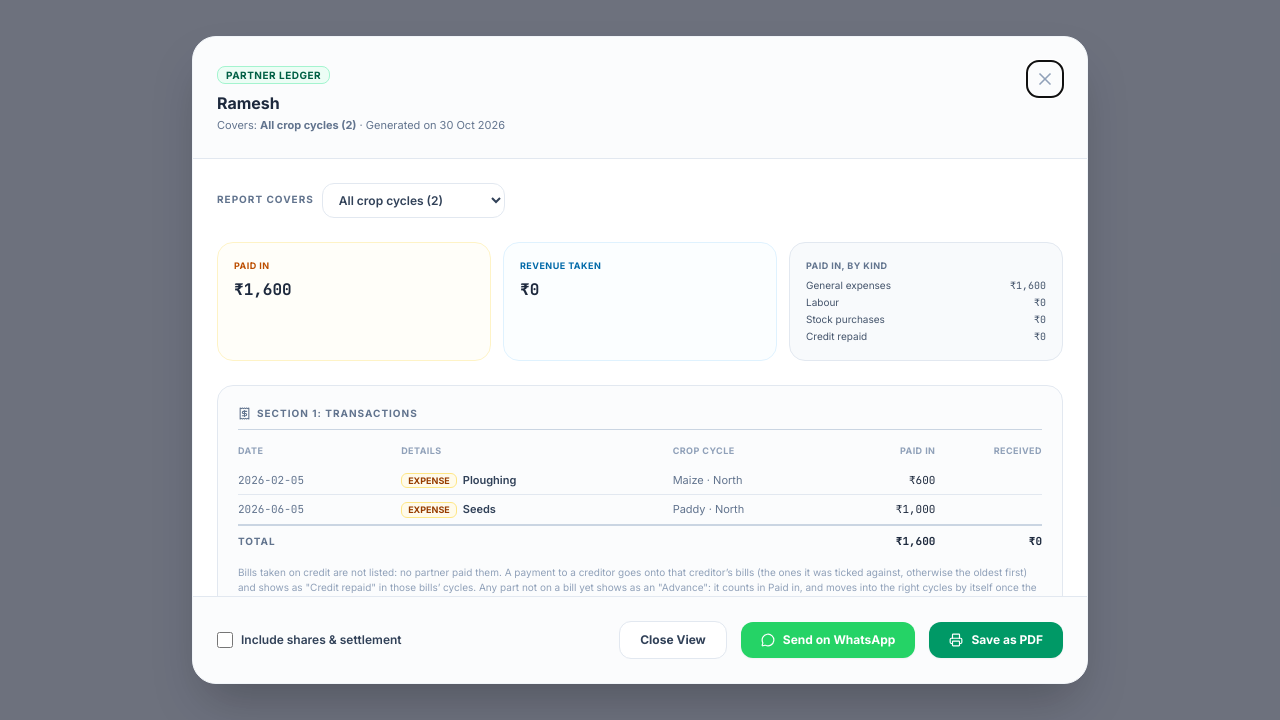
Scenario: PartnerReportModal › adds shares, the per-cycle table and settlement back when ticked
Click the checkbox labelled "Include shares & settlement" at (225, 640), box 217,632 -> 233,648
(page scrolled)
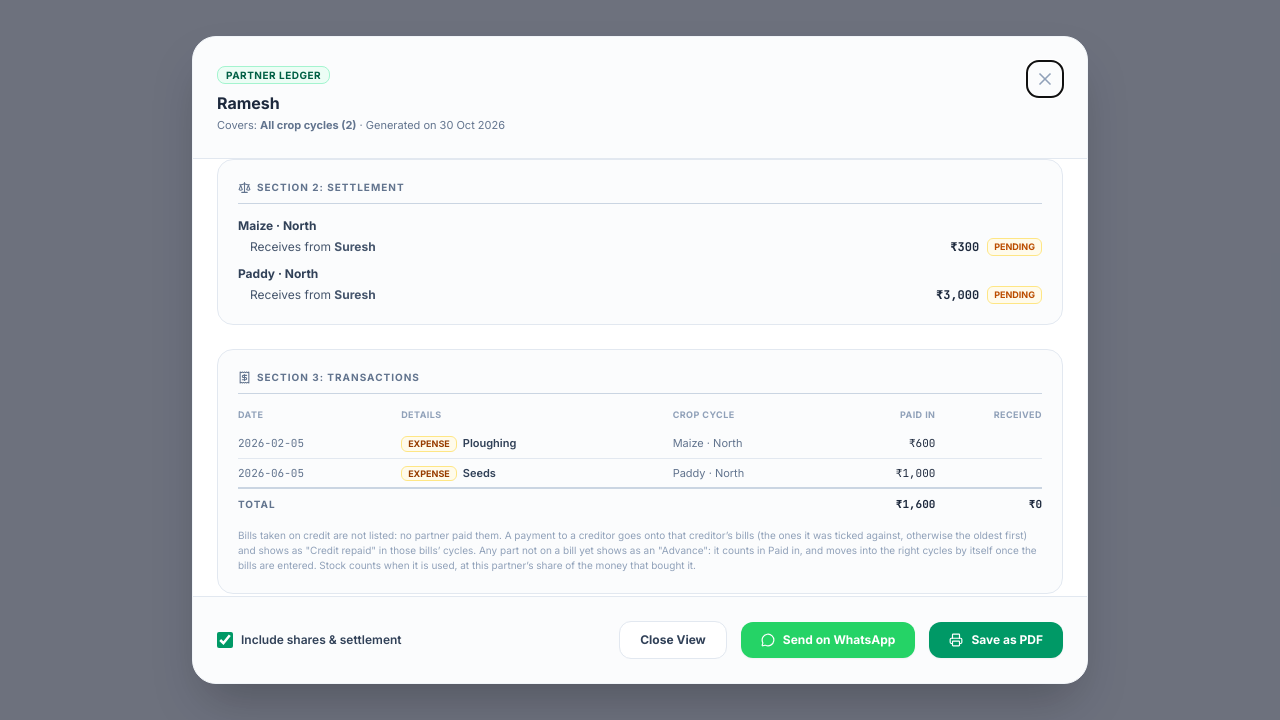
Result: the text "Section 2: Settlement" is shown at 257,180 -> 405,194
Result: the text "Section 3: Transactions" is shown at 257,370 -> 420,384
